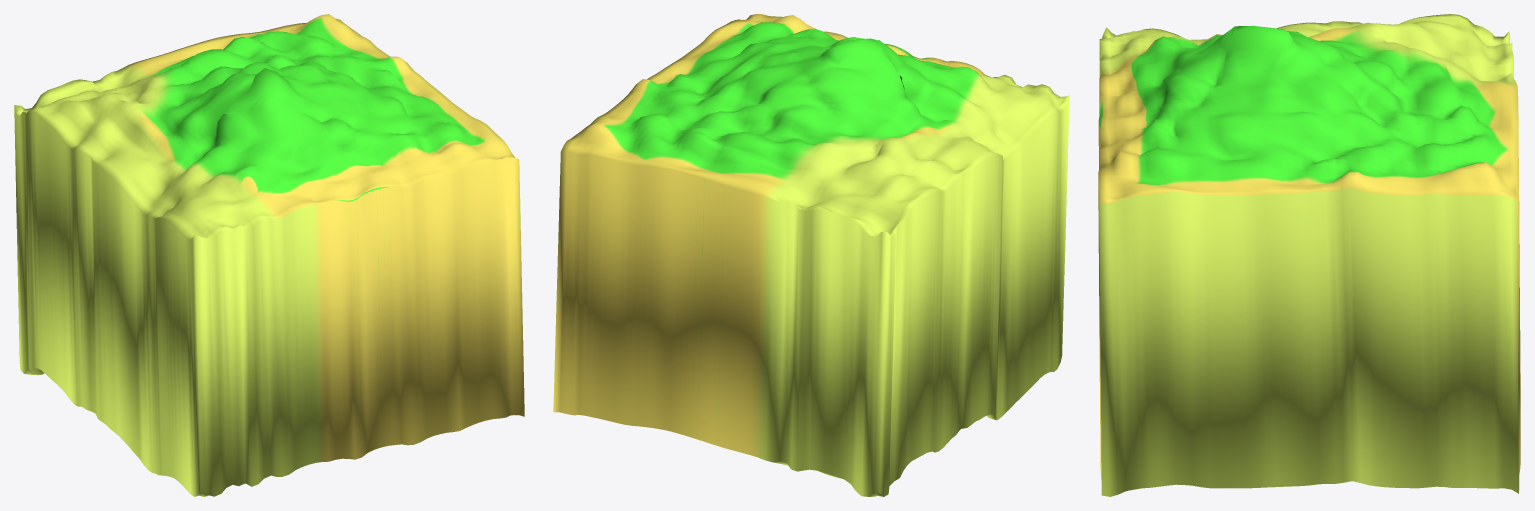
File: groud1.glb
The picture shows the model from 3 angles, left to right: view 1: azimuth 30°, elevation 25°; view 2: azimuth 150°, elevation 25°; view 3: azimuth 270°, elevation 25°; orthographic projection. The views are drawn at different scales.
Visible parts, largest first — view 1: グリッド; view 2: グリッド; view 3: グリッド.
Boxes of the visible parts, box(x1,y1,x2,y2) form: グリッド: box(14, 14, 524, 496); グリッド: box(553, 14, 1069, 496); グリッド: box(1098, 14, 1520, 496).
Bounding box in the file's own units: 40.82 × 41.16 × 40.2.
1 material, 1 textured.
